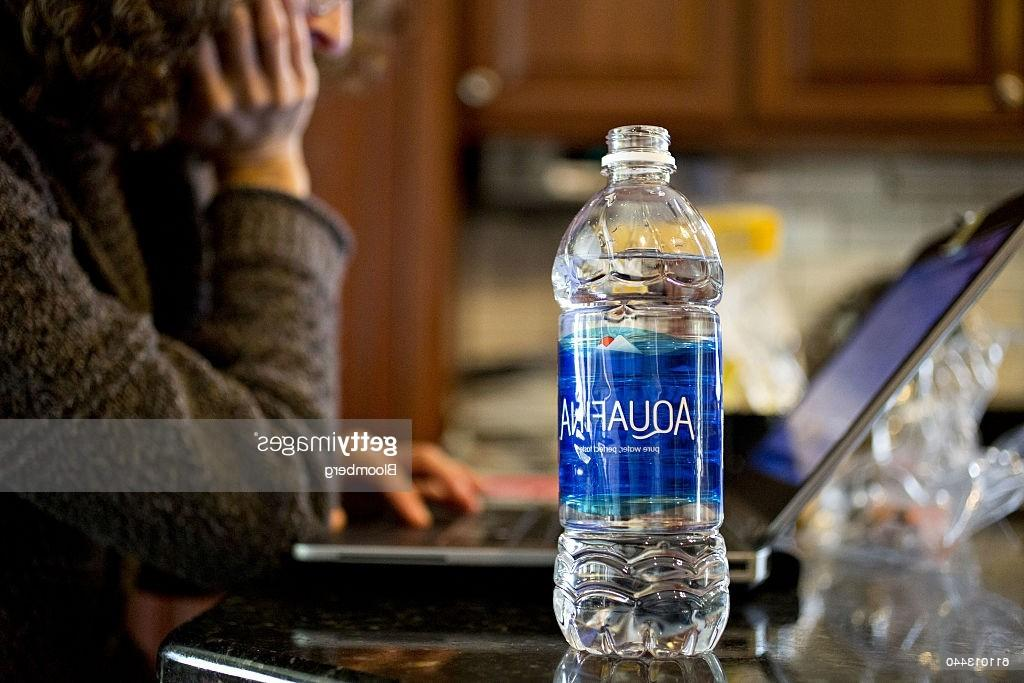bottle: (19, 369, 922, 492)
